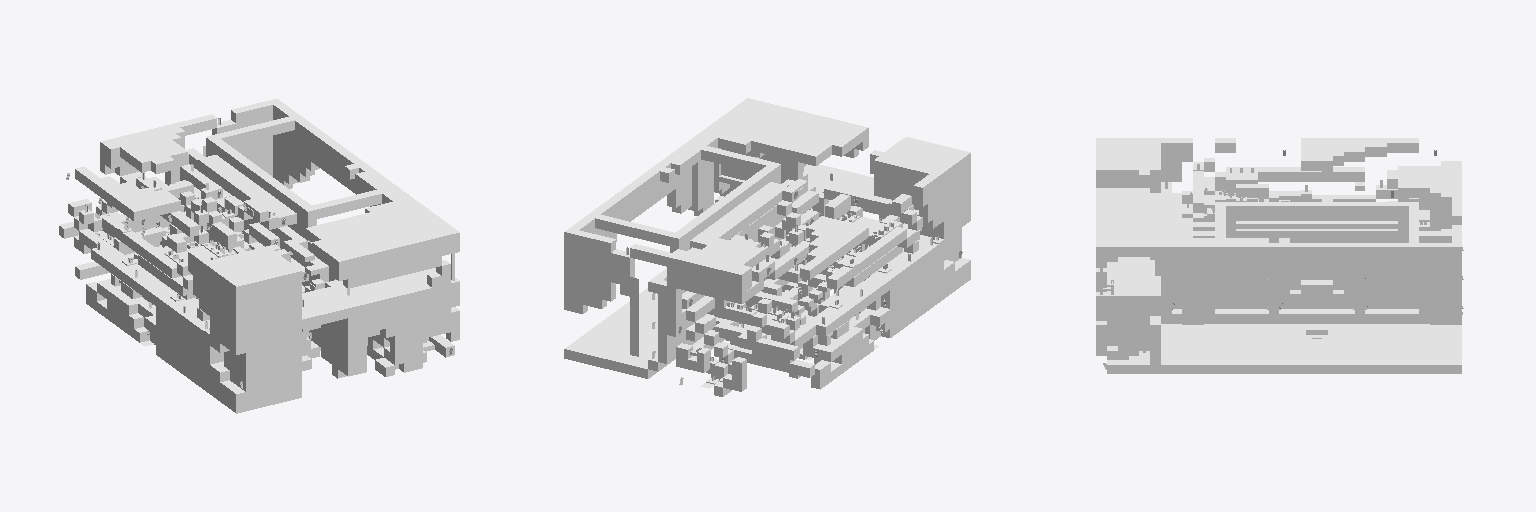
Rendered from wilson.obj.
The picture shows the model from 3 angles: view 1: azimuth 30°, elevation 25°; view 2: azimuth 150°, elevation 25°; view 3: azimuth 270°, elevation 25°; orthographic projection.
Parts seen in each view (by area): view 1: Etho's_LP_Ep550__-383_29_180_to_-360_41_213; view 2: Etho's_LP_Ep550__-383_29_180_to_-360_41_213; view 3: Etho's_LP_Ep550__-383_29_180_to_-360_41_213.
Part boxes in pixels (x1,y1,x2,y2): Etho's_LP_Ep550__-383_29_180_to_-360_41_213: (59, 99, 459, 413); Etho's_LP_Ep550__-383_29_180_to_-360_41_213: (564, 98, 970, 396); Etho's_LP_Ep550__-383_29_180_to_-360_41_213: (1096, 138, 1463, 373).
Bounding box in the file's own units: 24.12 × 13 × 34.12.